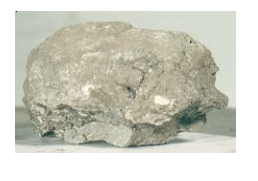Breccia: (16, 16, 229, 141)
